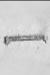N1: (5, 1, 46, 74)
